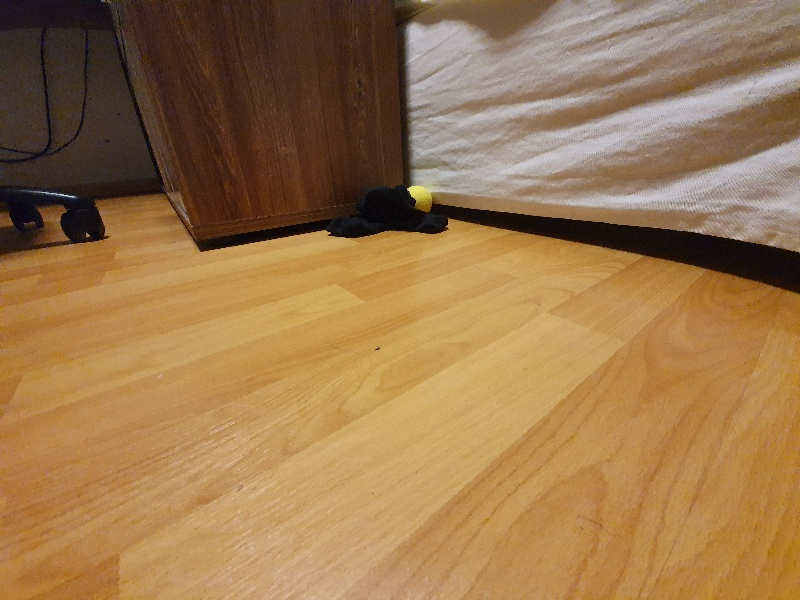Tennisball: (398, 183, 439, 222)
